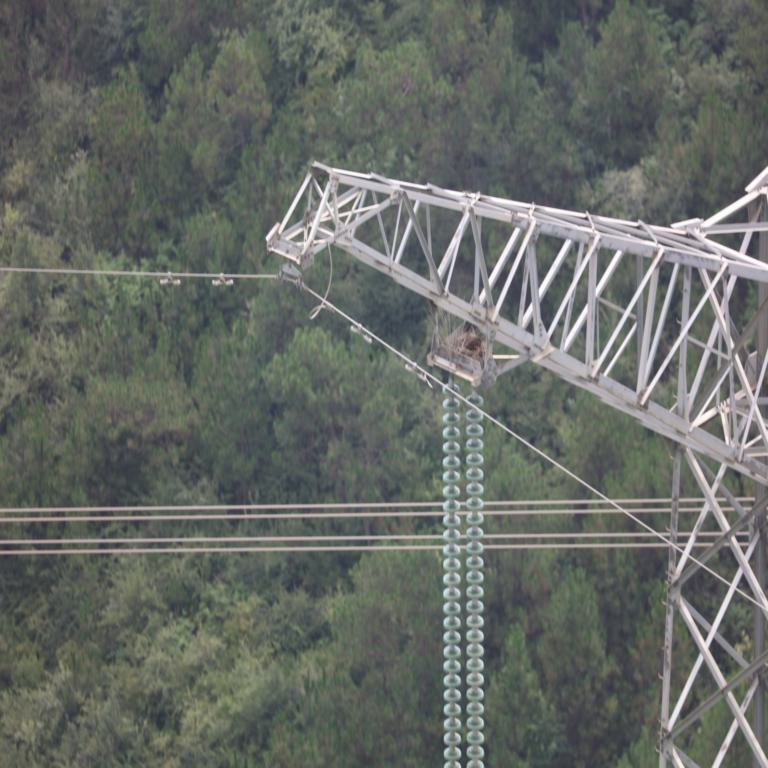nest: (425, 306, 488, 371)
